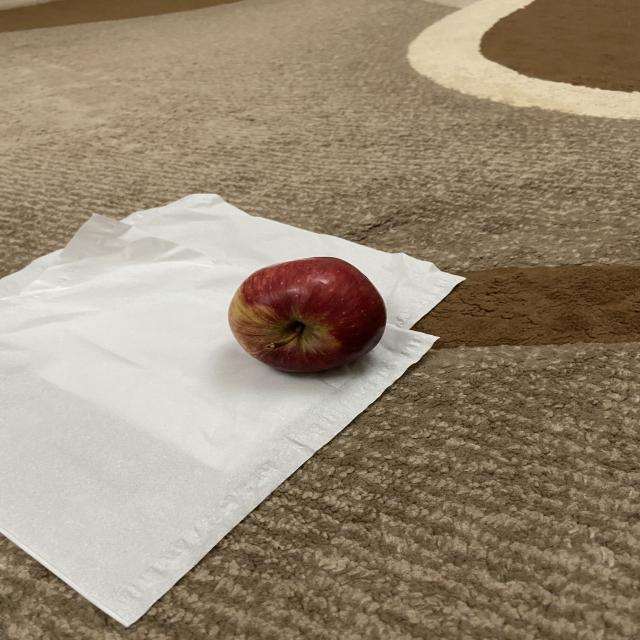apple: (225, 252, 388, 378)
